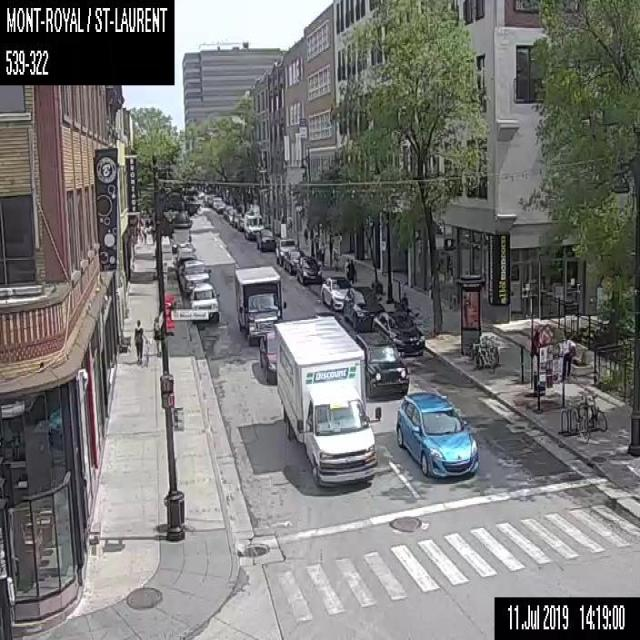pedestrian: (560, 334, 575, 382), (133, 318, 143, 364), (153, 314, 160, 357), (346, 259, 356, 284), (400, 290, 410, 314), (319, 240, 327, 266), (344, 257, 350, 278), (303, 227, 308, 244), (142, 225, 146, 242)
vehicle: (274, 316, 380, 487), (396, 391, 478, 479), (234, 264, 286, 344), (355, 332, 409, 396), (371, 310, 424, 354), (343, 285, 384, 328), (189, 281, 219, 323), (177, 258, 211, 294), (320, 276, 352, 310), (258, 332, 276, 384), (296, 255, 321, 282), (275, 238, 297, 265), (282, 248, 304, 274), (244, 212, 263, 240), (170, 227, 191, 252), (174, 246, 196, 267), (256, 228, 274, 250), (173, 211, 191, 227), (226, 208, 237, 222), (231, 212, 241, 226), (222, 204, 232, 217), (212, 196, 222, 208), (236, 216, 244, 231), (216, 200, 225, 212), (207, 193, 216, 204), (196, 189, 204, 199), (203, 193, 210, 204)
